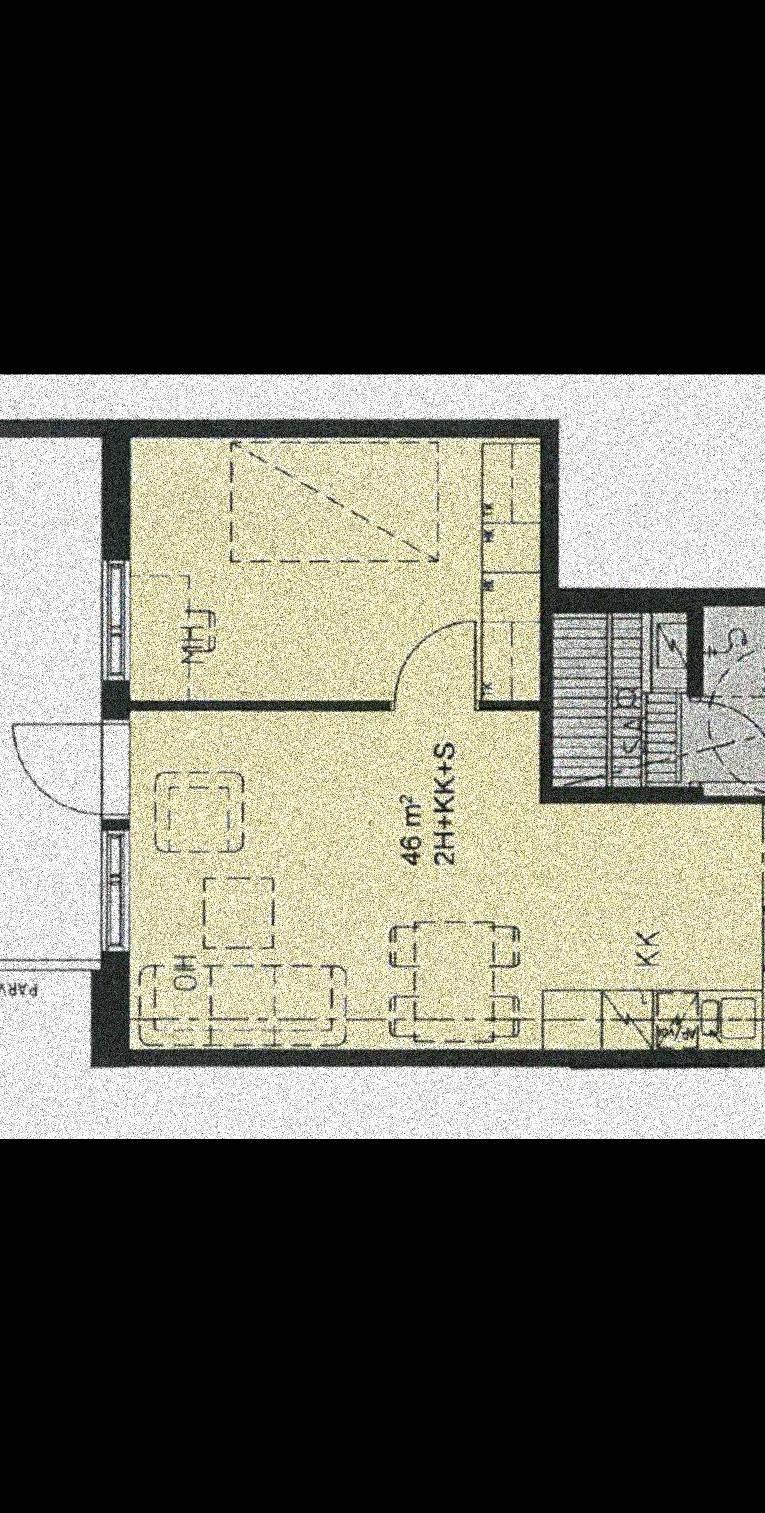door: (0, 718, 136, 813), (678, 689, 765, 797), (391, 619, 486, 716)
window: (98, 563, 130, 684), (102, 842, 132, 958)
zone: (132, 706, 765, 1055), (132, 440, 533, 703), (0, 442, 112, 958), (559, 608, 765, 785)
